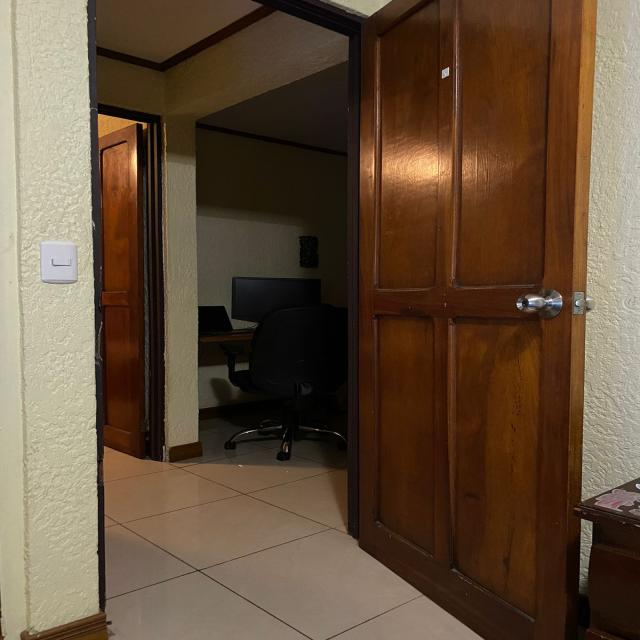OpenDoor: (92, 0, 359, 628)
